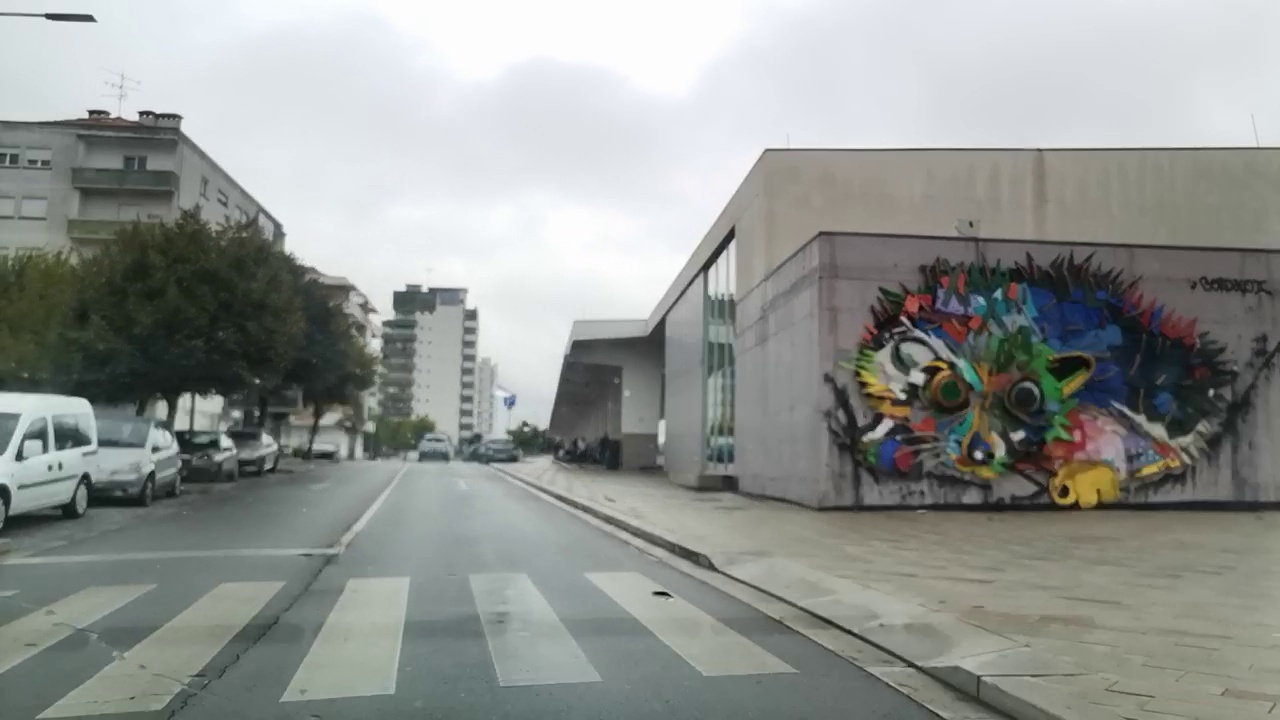Stairs: (0, 568, 789, 715)
